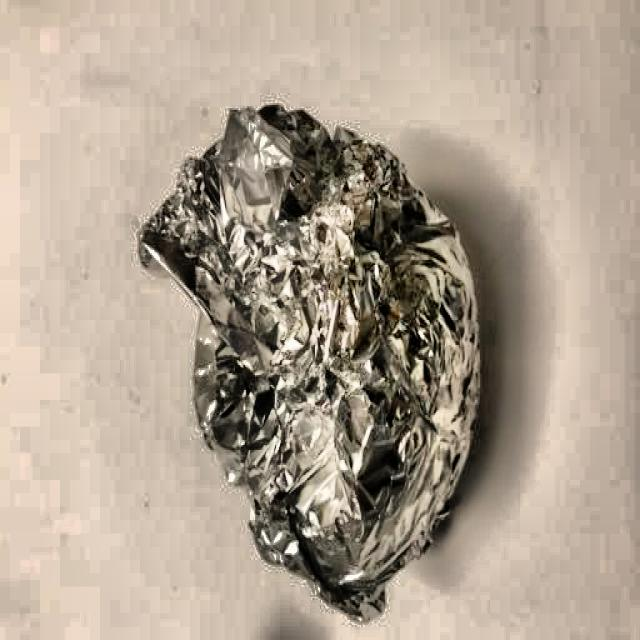metal: (141, 105, 484, 622)
